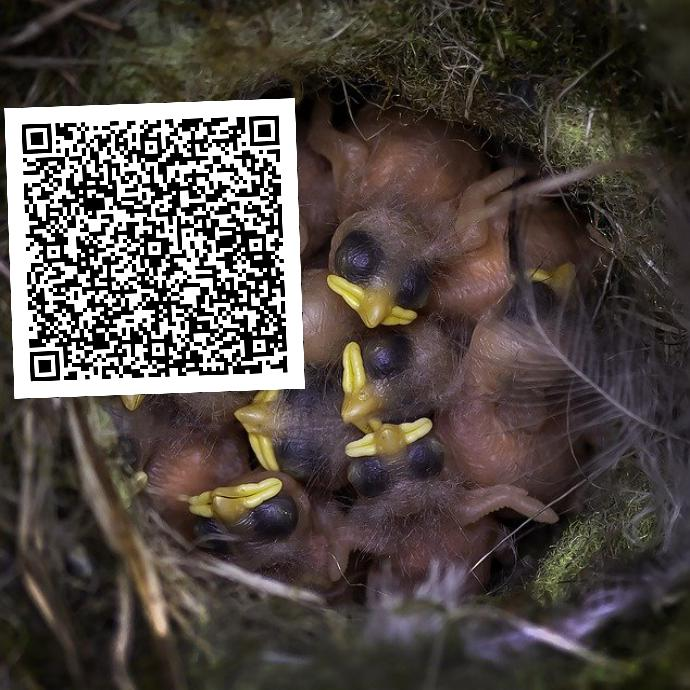qr_code: (4, 98, 304, 398)
